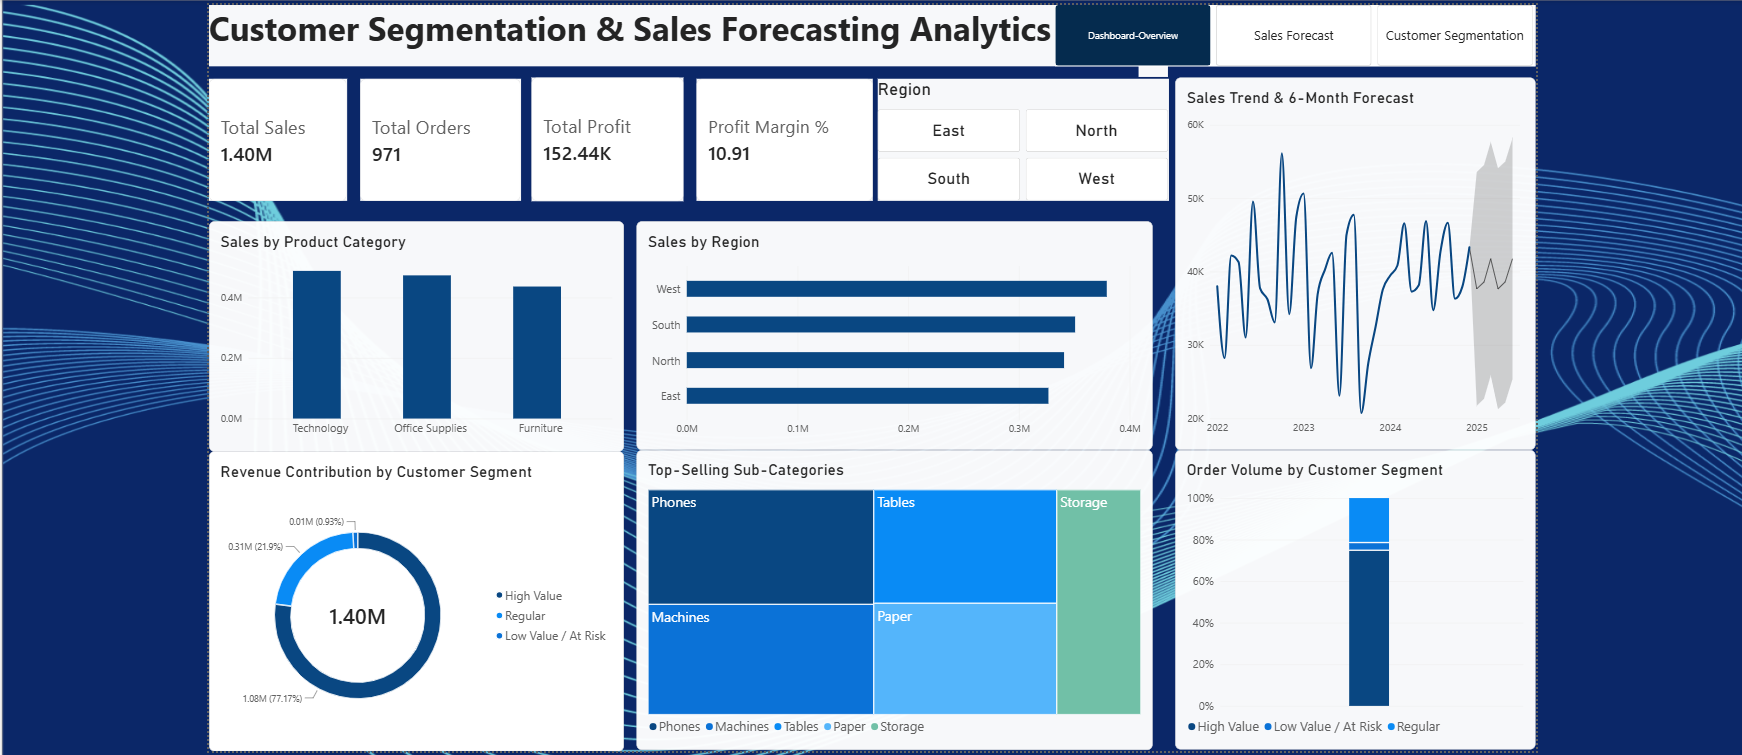

This screenshot's page, from the dashboard's own definition file:
{"tool":"powerbi","page":{"name":"Dashboard","canvas":[1920,1080],"ordinal":0},"visuals":[{"type":"donutChart","title":"Revenue Contribution by Customer Segment","fields":{"Category":["Customer_Summary.Customer_Segment"],"Y":["Sum(Customer_Summary.Total_Sales)"]},"box":[0,646.3,601,434.3],"z":0},{"type":"hundredPercentStackedColumnChart","title":"Order Volume by Customer Segment","fields":{"Series":["Customer_Summary.Customer_Segment"],"Y":["Sum(Customer_Summary.Order_Count)"]},"box":[1398.2,644.6,521.4,433.9],"z":1000},{"type":"lineChart","title":"Sales Trend & 6-Month Forecast","fields":{"Category":["superstore_sales.Order_Date.Variation.Date Hierarchy.Year","superstore_sales.Order_Date.Variation.Date Hierarchy.Month"],"Y":["Sum(superstore_sales.Sales)"]},"box":[1398.2,105.4,521.4,539.3],"z":2000},{"type":"cardVisual","fields":{"Data":["Sum(superstore_sales.Sales)"]},"box":[0,107,199.7,177],"z":3000},{"type":"cardVisual","fields":{"Data":["Sum(superstore_sales.Profit)"]},"box":[467.2,105,220.2,179.1],"z":4000},{"type":"cardVisual","fields":{"Data":["Sum(Customer_Summary.Order_Count)"]},"box":[218.2,107,232.6,177],"z":5000},{"type":"columnChart","title":"Sales by Product Category","fields":{"Category":["superstore_sales.Category"],"Y":["Sum(superstore_sales.Sales)"]},"box":[0,312.5,601,333.4],"z":6000},{"type":"clusteredBarChart","title":"Sales by Region","fields":{"Category":["superstore_sales.Region"],"Y":["Sum(superstore_sales.Sales)"]},"box":[619.6,312.5,747.2,331.4],"z":7000},{"type":"advancedSlicerVisual","fields":{"Values":["superstore_sales.Region"]},"box":[967.9,107.1,421.4,176.8],"z":8000},{"type":"textbox","box":[0,0,1920.4,88.5],"z":9000},{"type":"treemap","title":"\tTop-Selling Sub-Categories","fields":{"Group":["superstore_sales.Sub_Category"],"Values":["Sum(superstore_sales.Sales)"]},"box":[619.6,644.6,747.2,434.3],"z":10000},{"type":"cardVisual","fields":{"Data":["Customer_Summary.Profit_Margin_Percent"]},"box":[706,107,255.2,177],"z":11000}]}

Visuals, with their boxes in screenshot pixels (x1, y1, x2, y2):
"Revenue Contribution by Customer Segment" donutChart: left=204, top=444, right=617, bottom=743
"Order Volume by Customer Segment" hundredPercentStackedColumnChart: left=1166, top=443, right=1524, bottom=742
"Sales Trend & 6-Month Forecast" lineChart: left=1166, top=72, right=1524, bottom=443
cardVisual - Sum(superstore_sales.Sales): left=204, top=74, right=341, bottom=195
cardVisual - Sum(superstore_sales.Profit): left=525, top=72, right=677, bottom=195
cardVisual - Sum(Customer_Summary.Order_Count): left=354, top=74, right=514, bottom=195
"Sales by Product Category" columnChart: left=204, top=215, right=617, bottom=444
"Sales by Region" clusteredBarChart: left=630, top=215, right=1144, bottom=443
advancedSlicerVisual - superstore_sales.Region: left=870, top=74, right=1159, bottom=195
textbox: left=204, top=0, right=1525, bottom=61
"	Top-Selling Sub-Categories" treemap: left=630, top=443, right=1144, bottom=742
cardVisual - Customer_Summary.Profit_Margin_Percent: left=690, top=74, right=865, bottom=195
